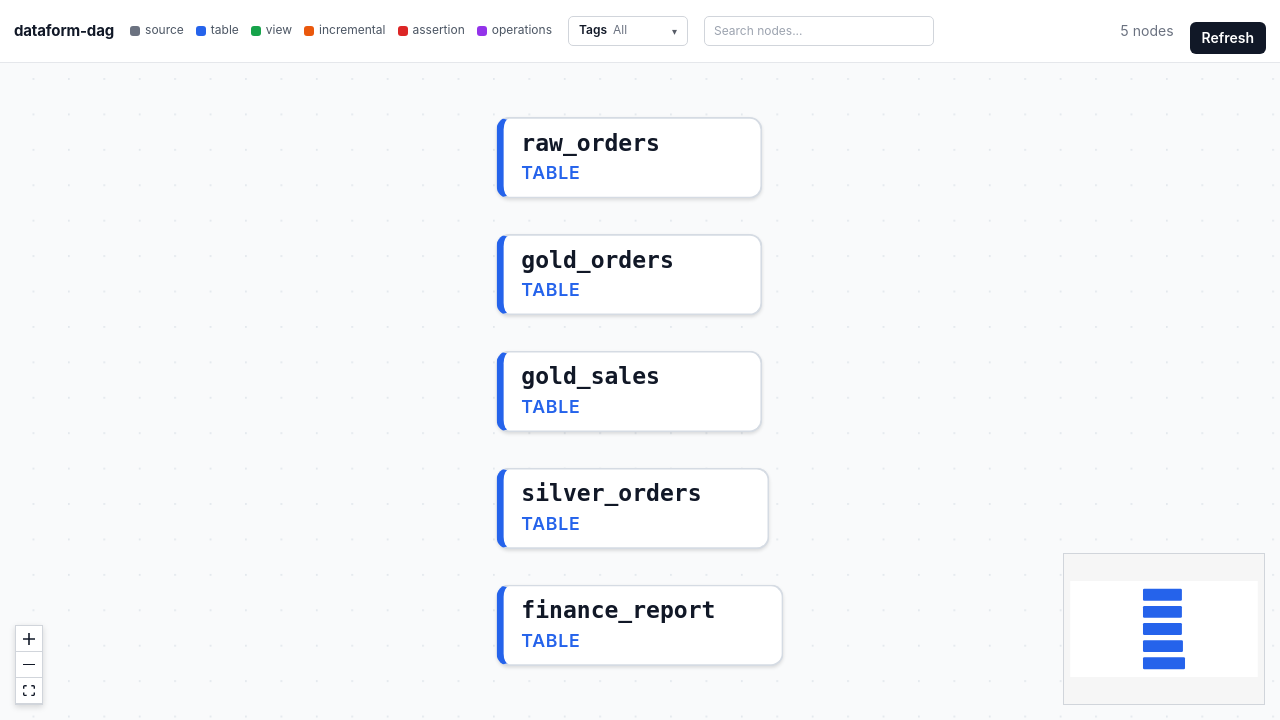
it: App › filters by multiple selected tags
Expected: the text "5 nodes" is shown, [1120,21,1174,41]
Click the heading "Tags All".
click(628, 31)  # box [568,16,688,46]
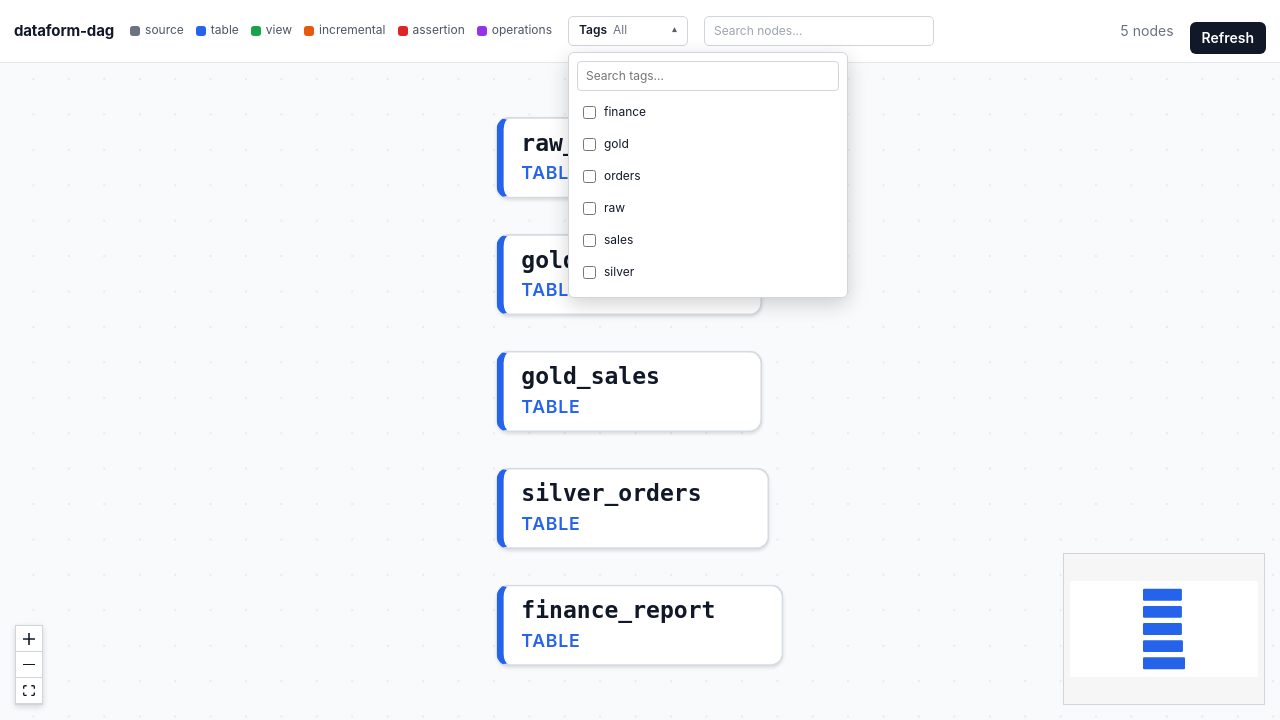
Click the checkbox labelled "silver".
click(590, 273)  # box [583,266,596,279]
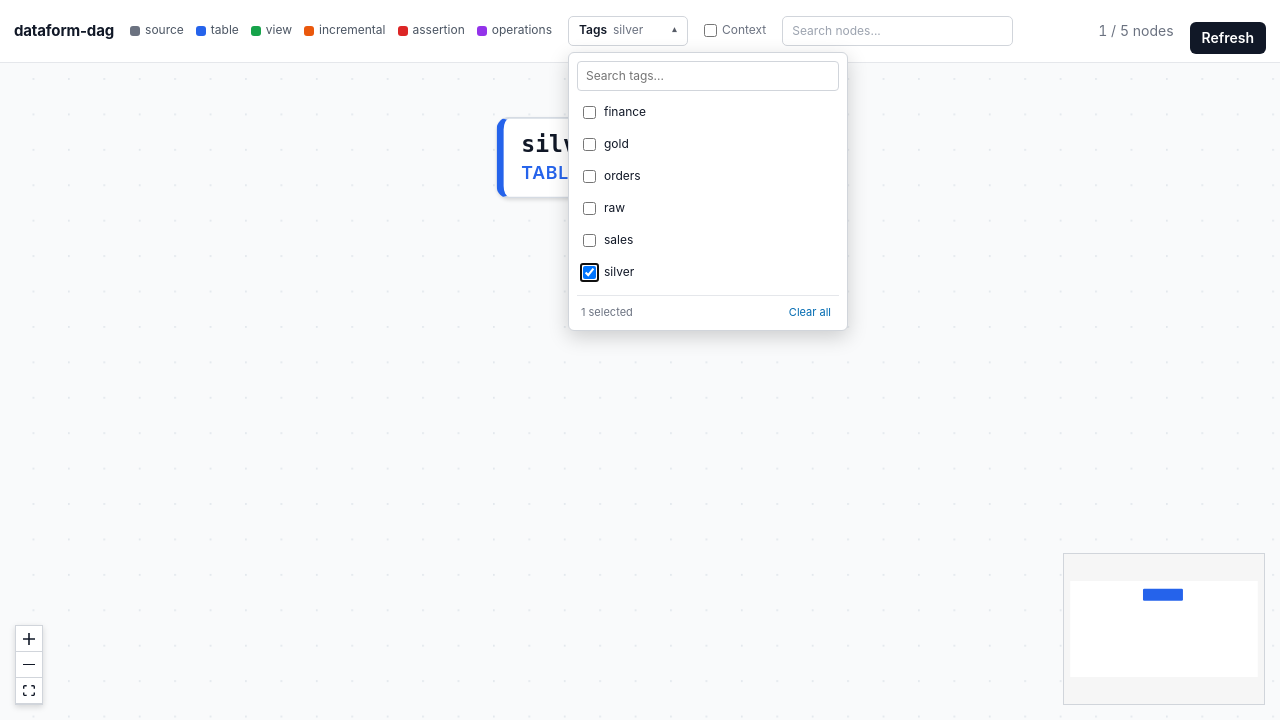
Expected: the text "1 / 5 nodes" is shown, [1098,21,1174,41]
Click the checkbox labelled "gold".
click(590, 145)  # box [583,138,596,151]
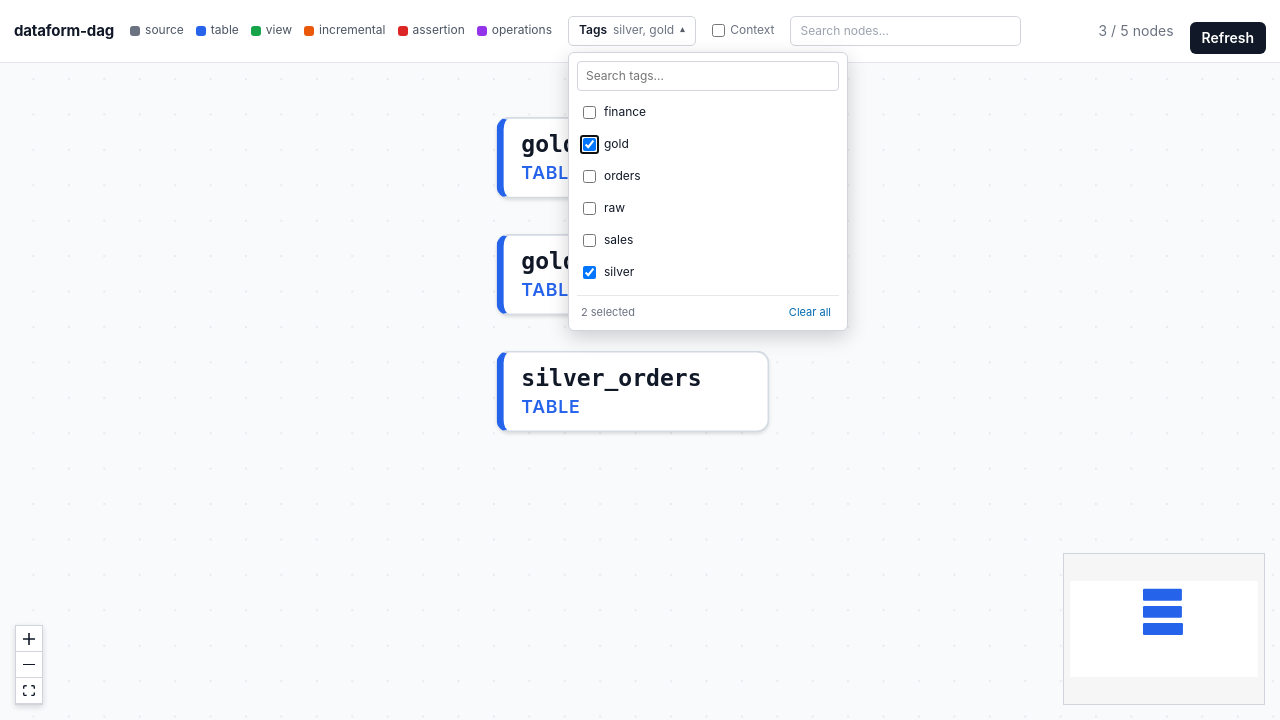
Expected: the text "3 / 5 nodes" is shown, [1098,21,1174,41]
